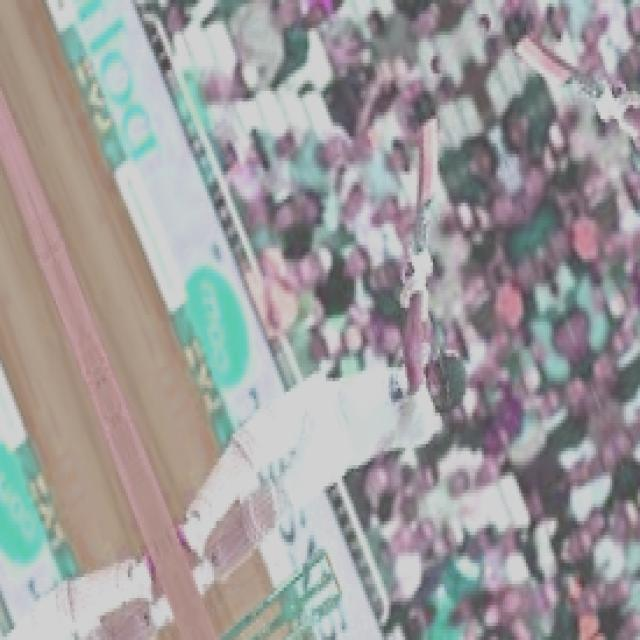toe: (418, 115, 442, 139)
